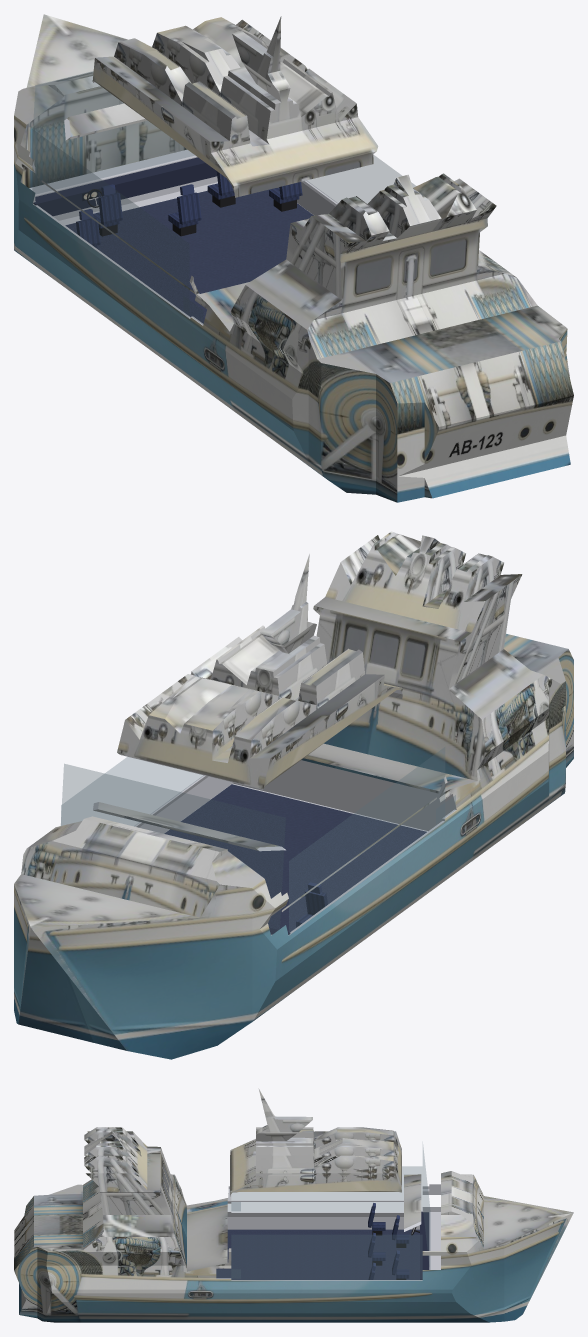
Rendered from trawler.glb.
3 views of the same model, one above another, from view 1: azimuth 30°, elevation 25°; view 2: azimuth 150°, elevation 25°; view 3: azimuth 270°, elevation 25° (orthographic). The views are drawn at different scales.
Visible parts, largest first — view 1: trawler, trawler_cabin; view 2: trawler, trawler_cabin; view 3: trawler, trawler_cabin.
Boxes of the visible parts, x1=… form: trawler: x1=14, y1=14, x2=573, y2=502; trawler_cabin: x1=29, y1=71, x2=415, y2=324; trawler: x1=14, y1=531, x2=573, y2=1059; trawler_cabin: x1=61, y1=747, x2=455, y2=935; trawler: x1=14, y1=1088, x2=573, y2=1322; trawler_cabin: x1=216, y1=1147, x2=430, y2=1279.
Bounding box in the file's own units: 5.88 × 8.69 × 19.98.
11 materials, 4 textured.
